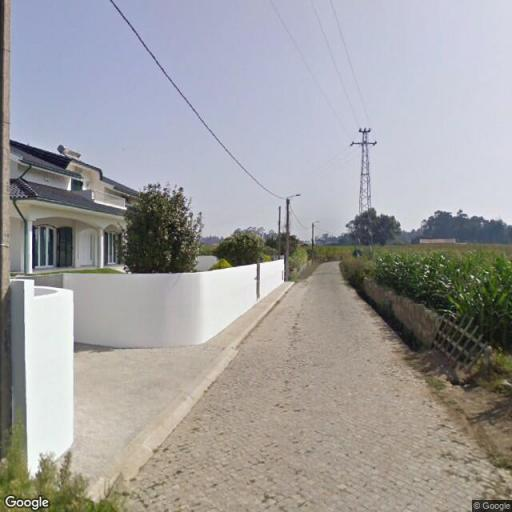ss_1: (348, 120, 382, 255)
